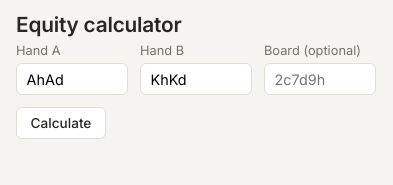
Scenario: EquityCalculator › shows an error message and no result on a rejected request
Click the button "Calculate".
click(61, 123)  # box [16,107,106,139]
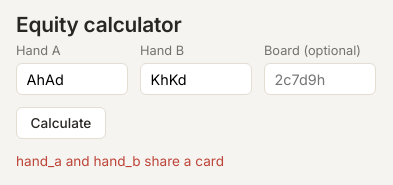
Expected: the message reads "hand_a and hand_b share a card", [16,153,224,169]
